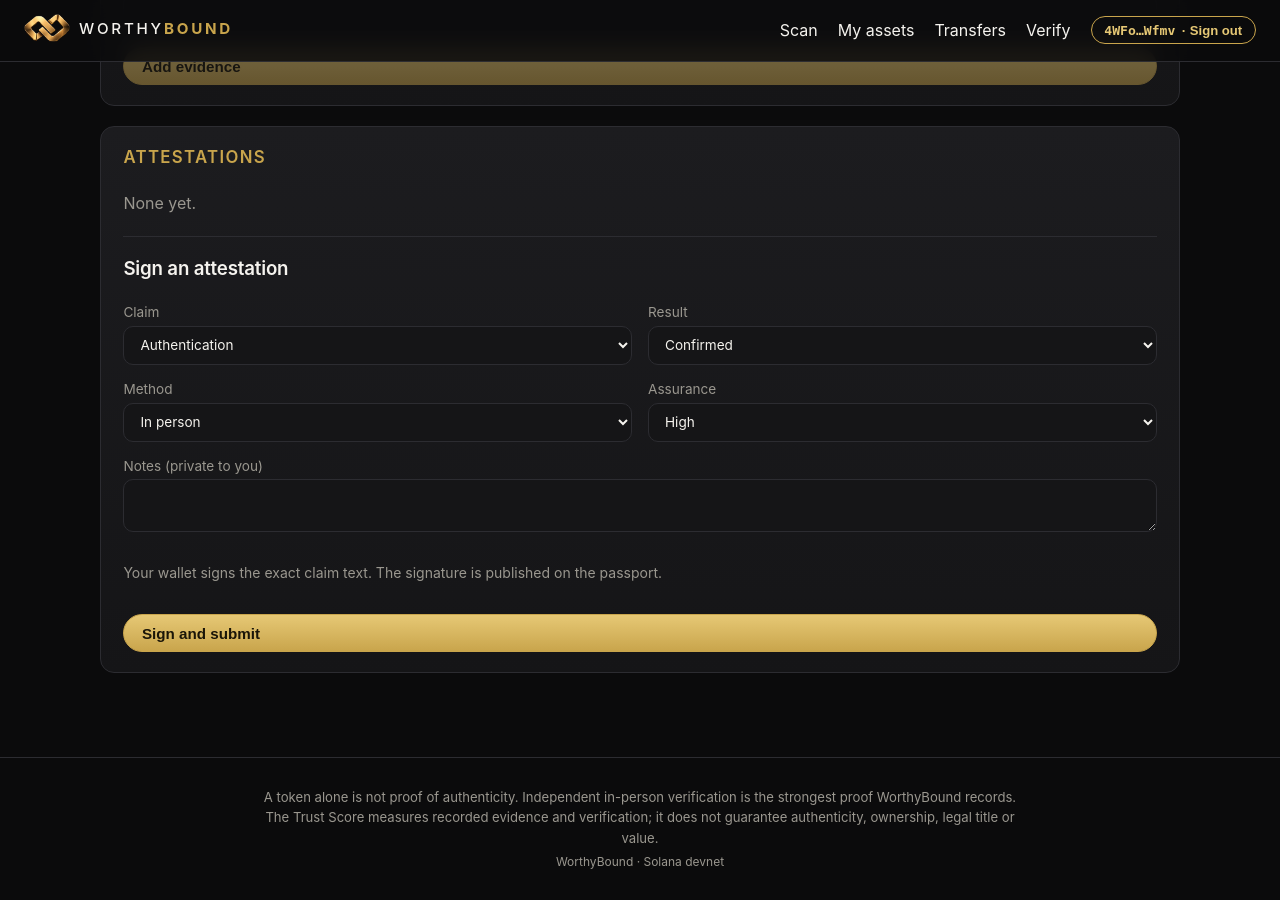
Test: verifier attestation › refuses to sign with a wallet other than the verifier's
(page scrolled)
Click the button "Sign and submit": {"x": 201, "y": 633} [123,614,1157,652]
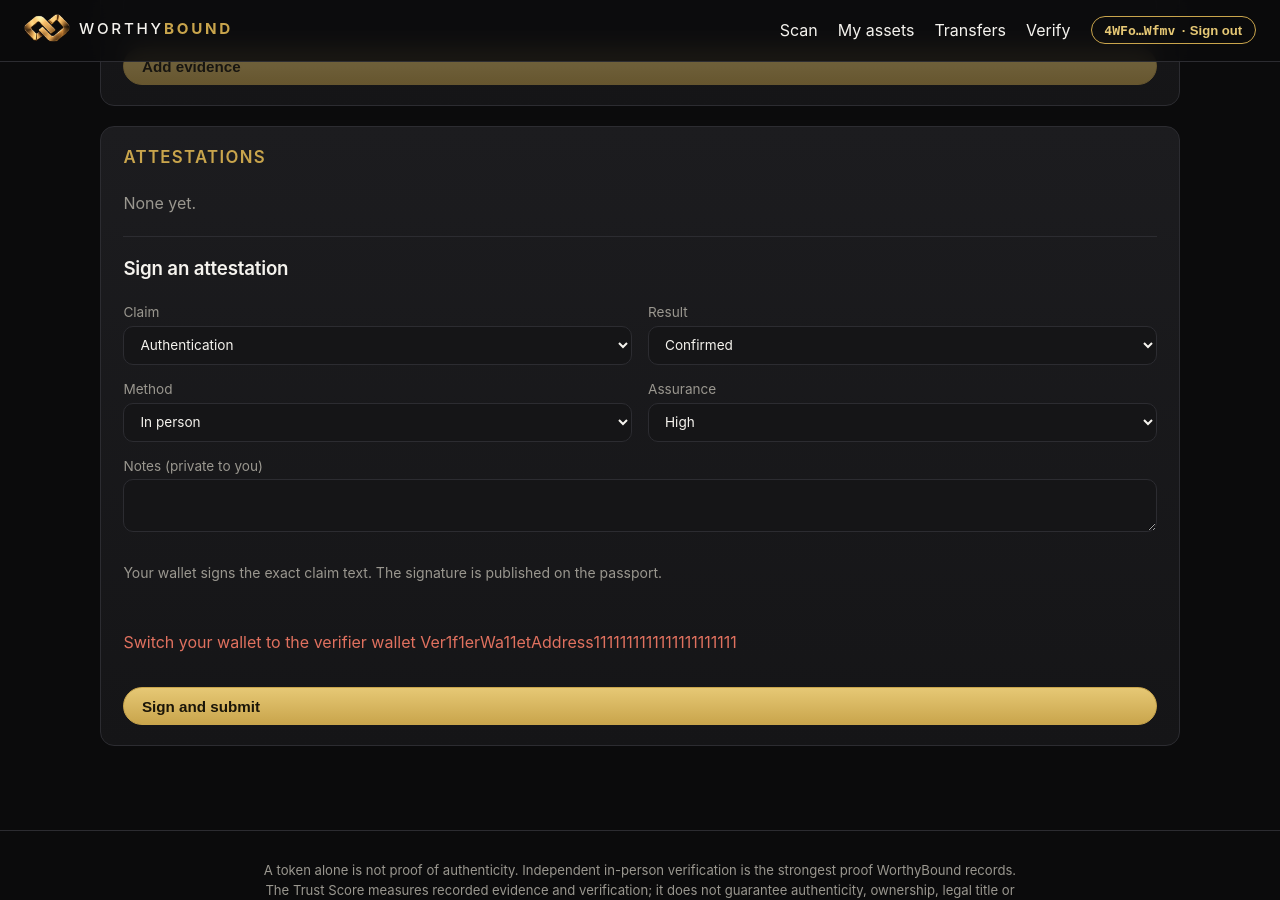
Expected: the message shows "Switch your wallet", [123,632,737,652]
